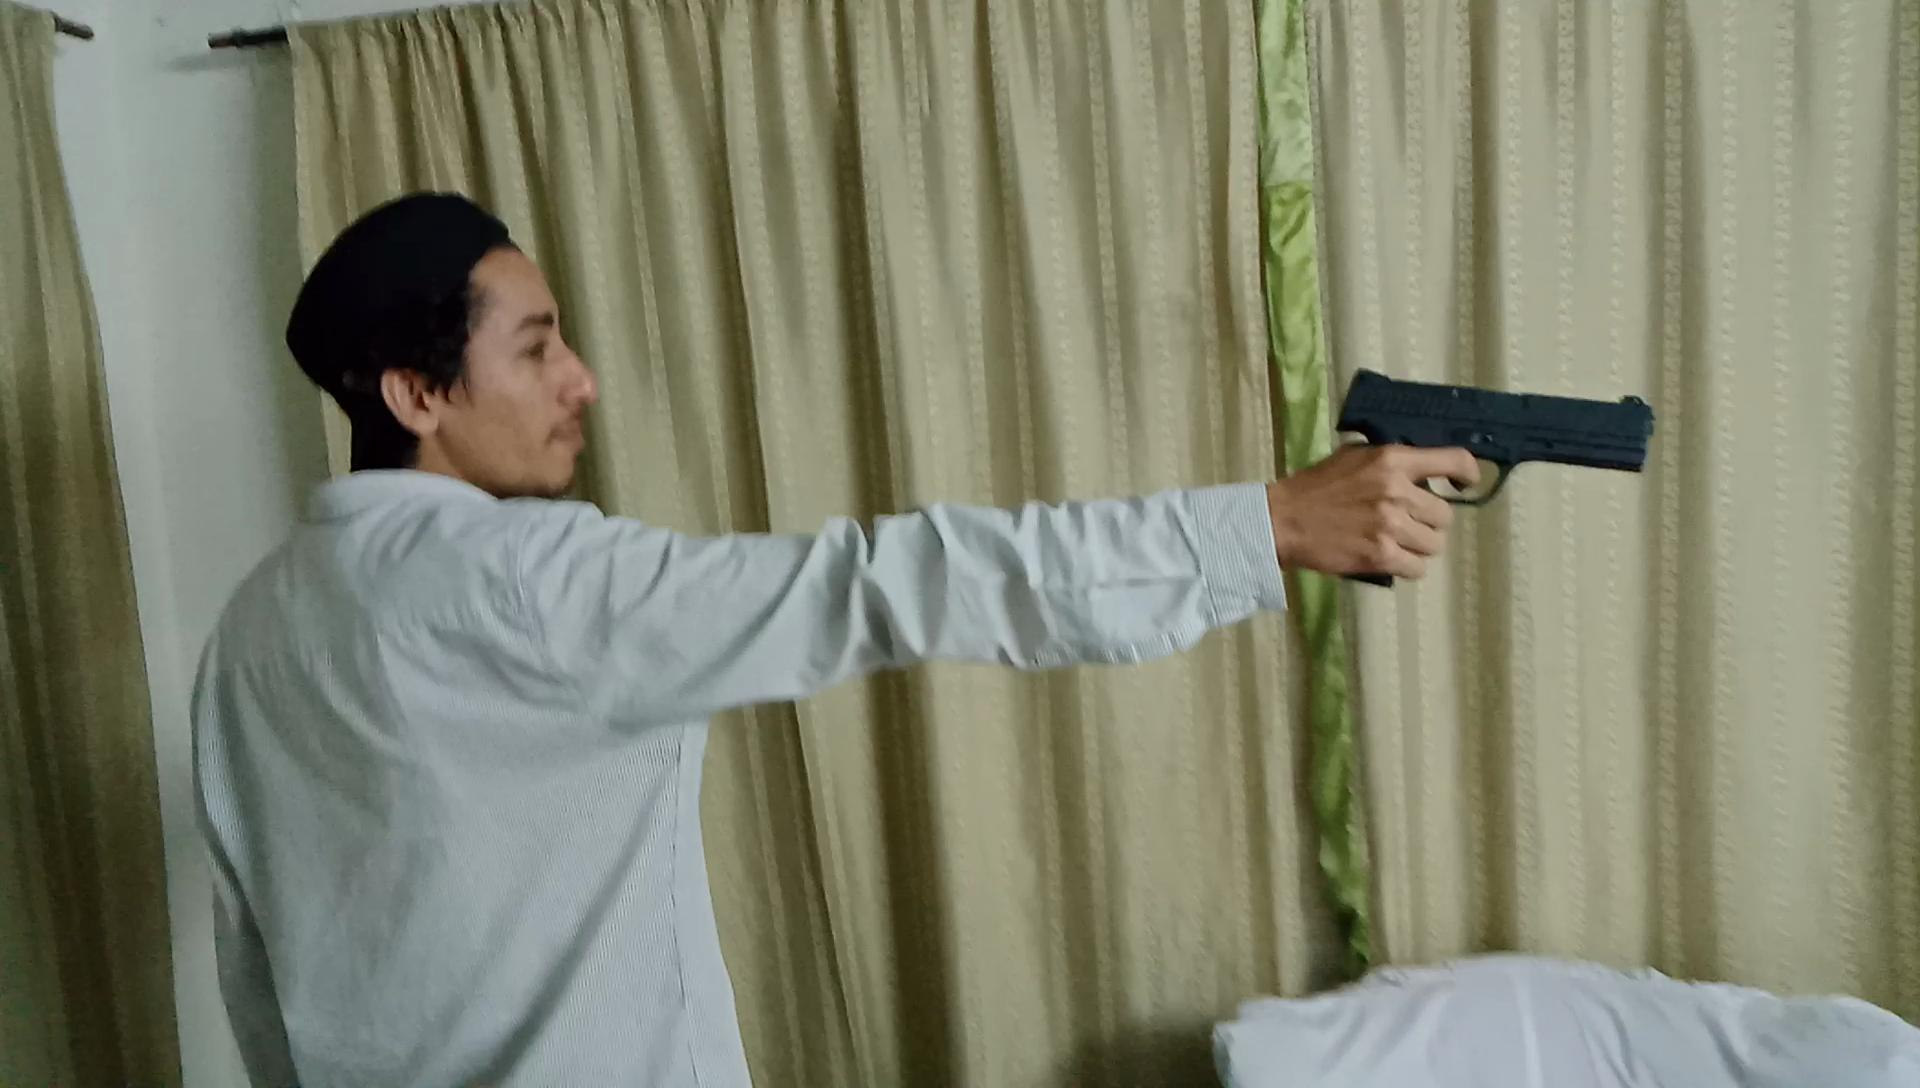criminal: (183, 191, 1668, 1088)
weapon: (1325, 363, 1665, 597)
